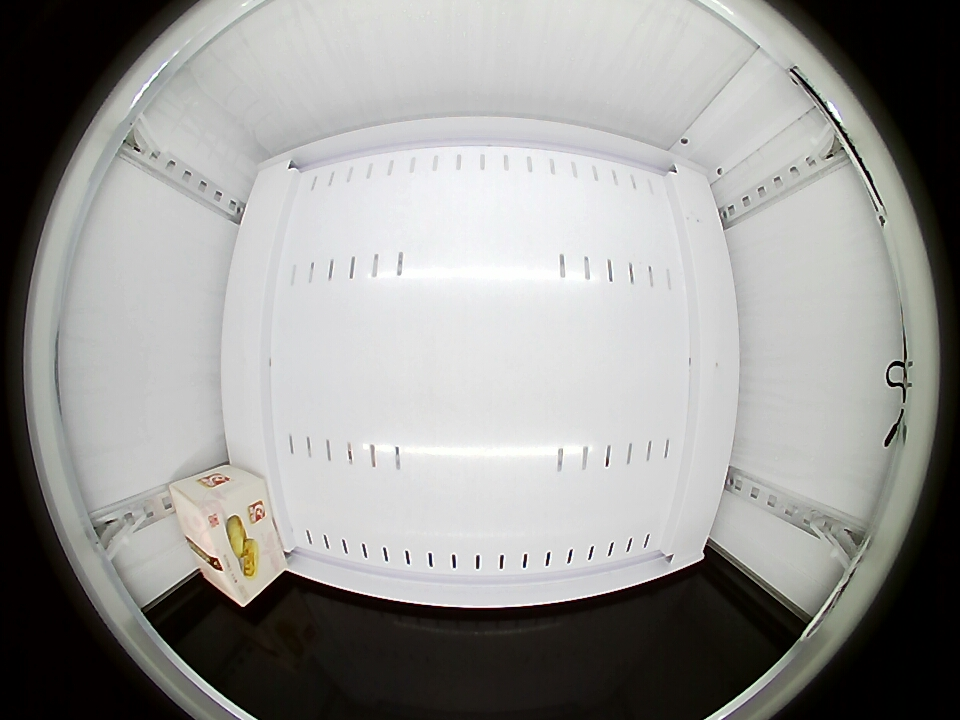rousongbing: (171, 476, 269, 608)
